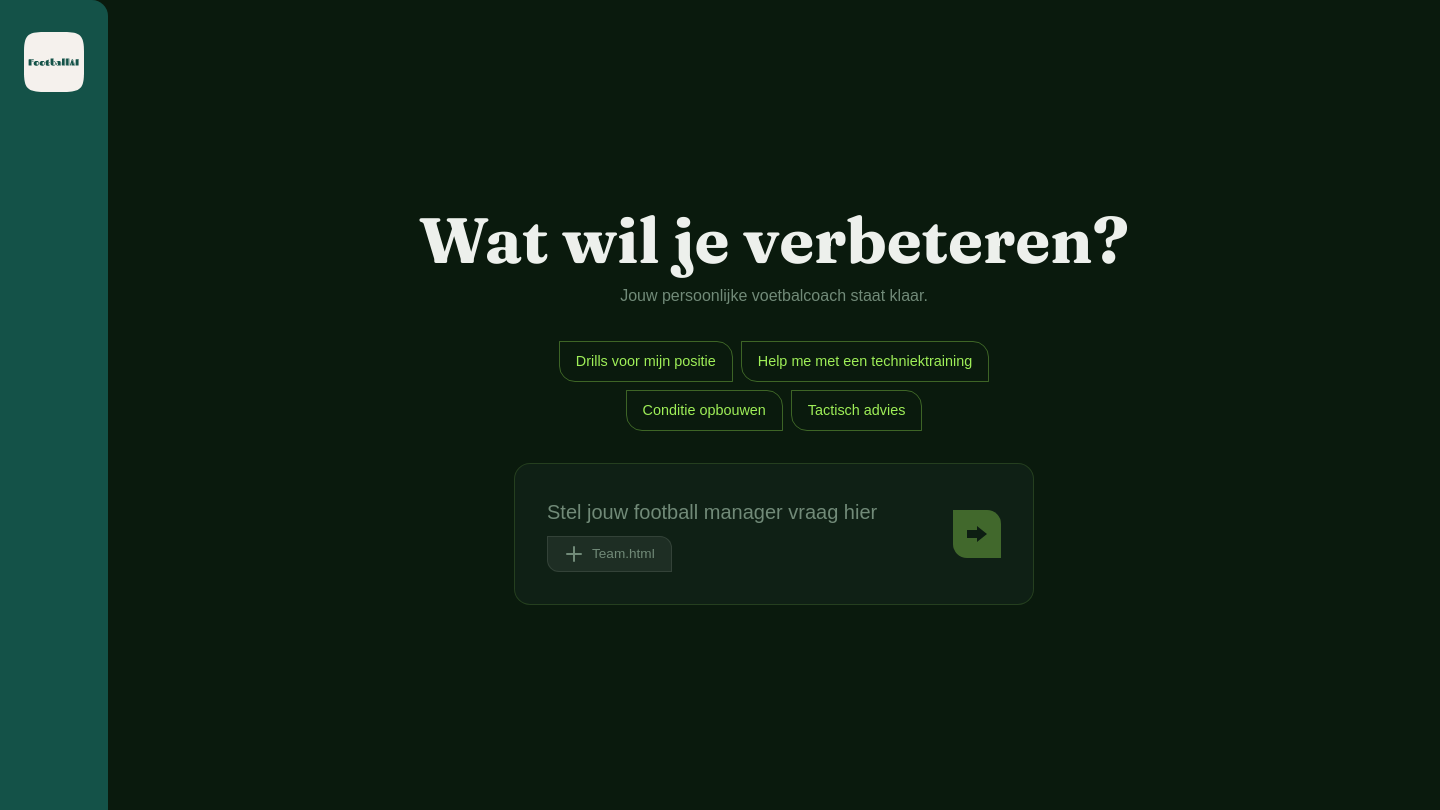
Scenario: ChatApp › toont foutmelding bij mislukte fetch
Type "Test" into the field at (742, 512), box [547,496,937,528]
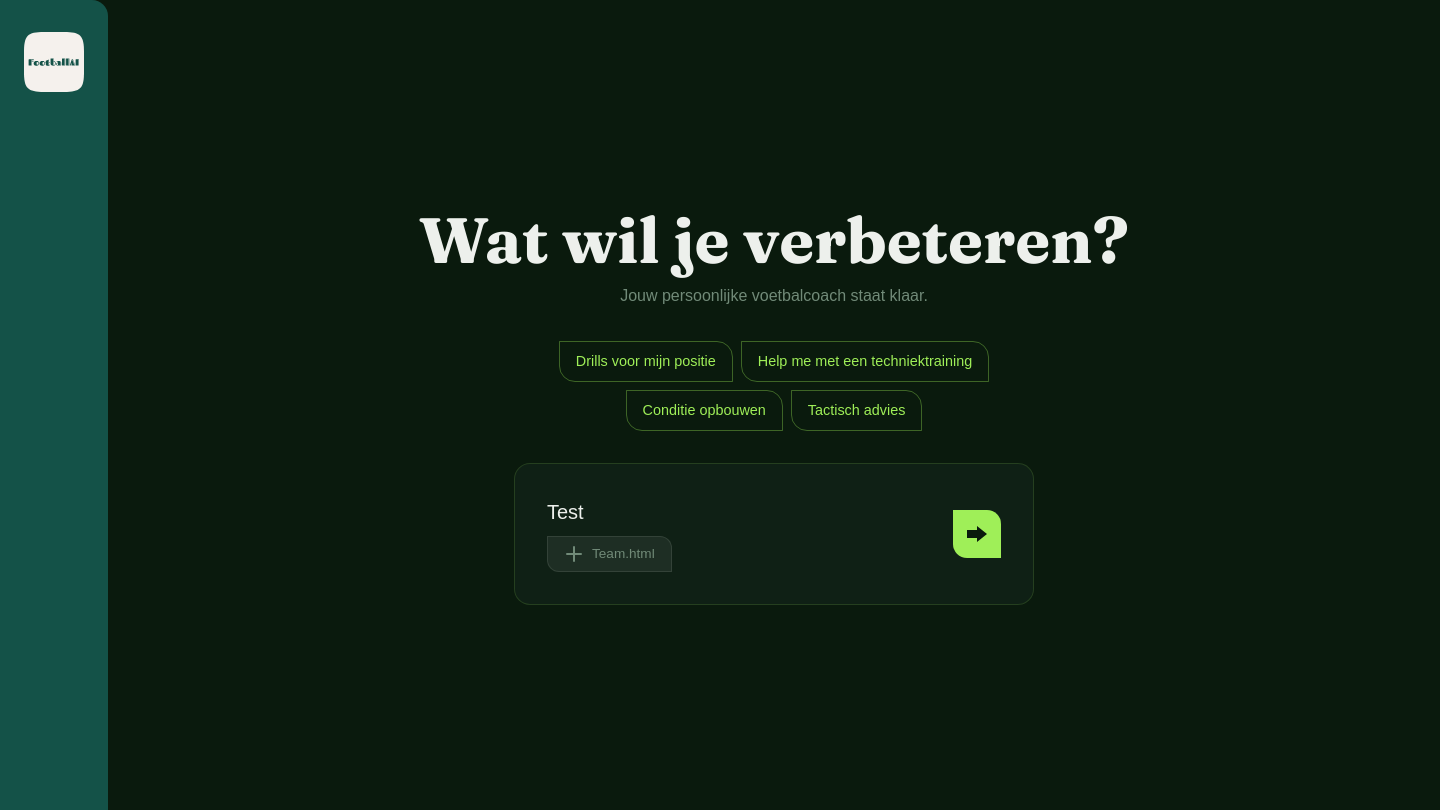
Press Enter
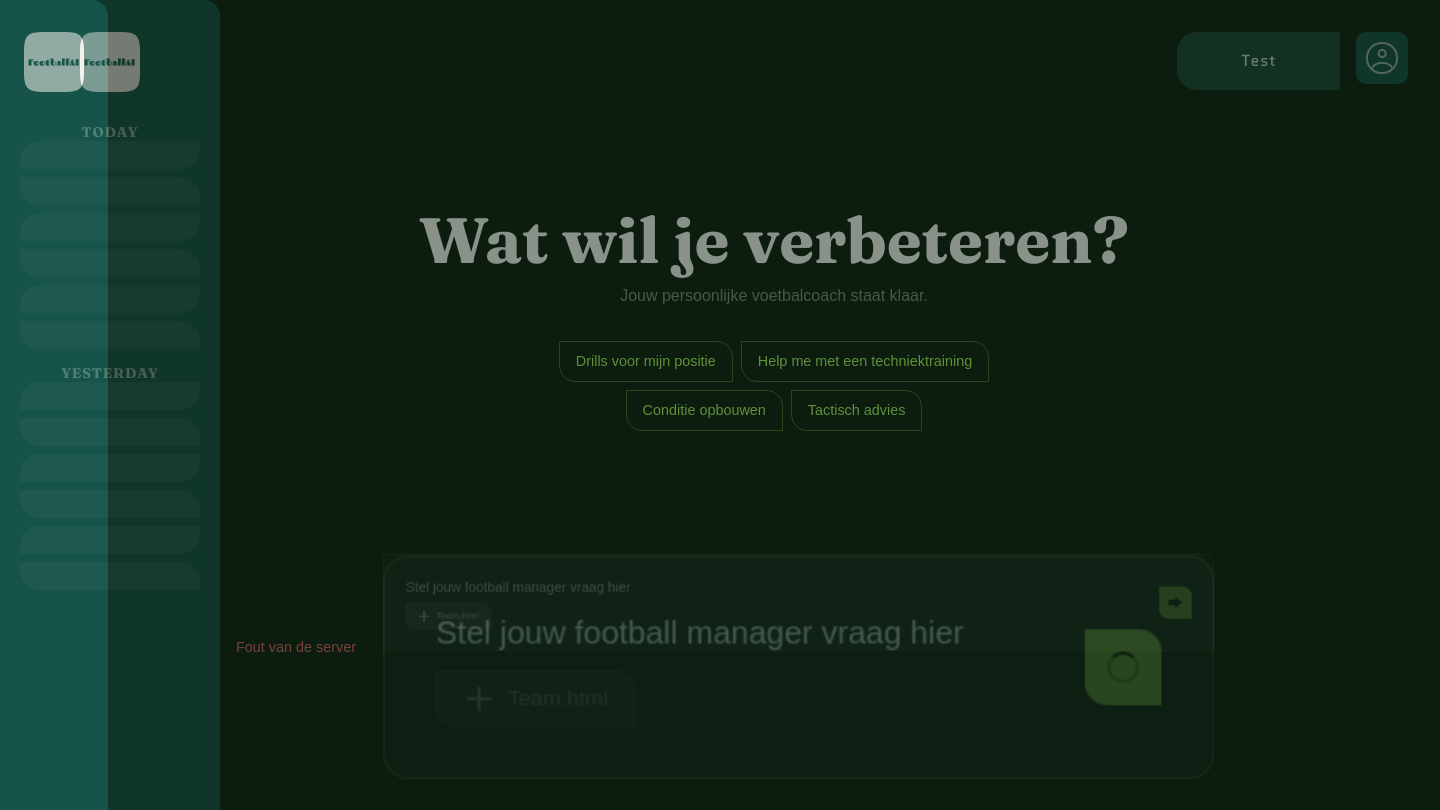
expect the text "Fout van de server" is shown: met, box [236,639,356,655]
